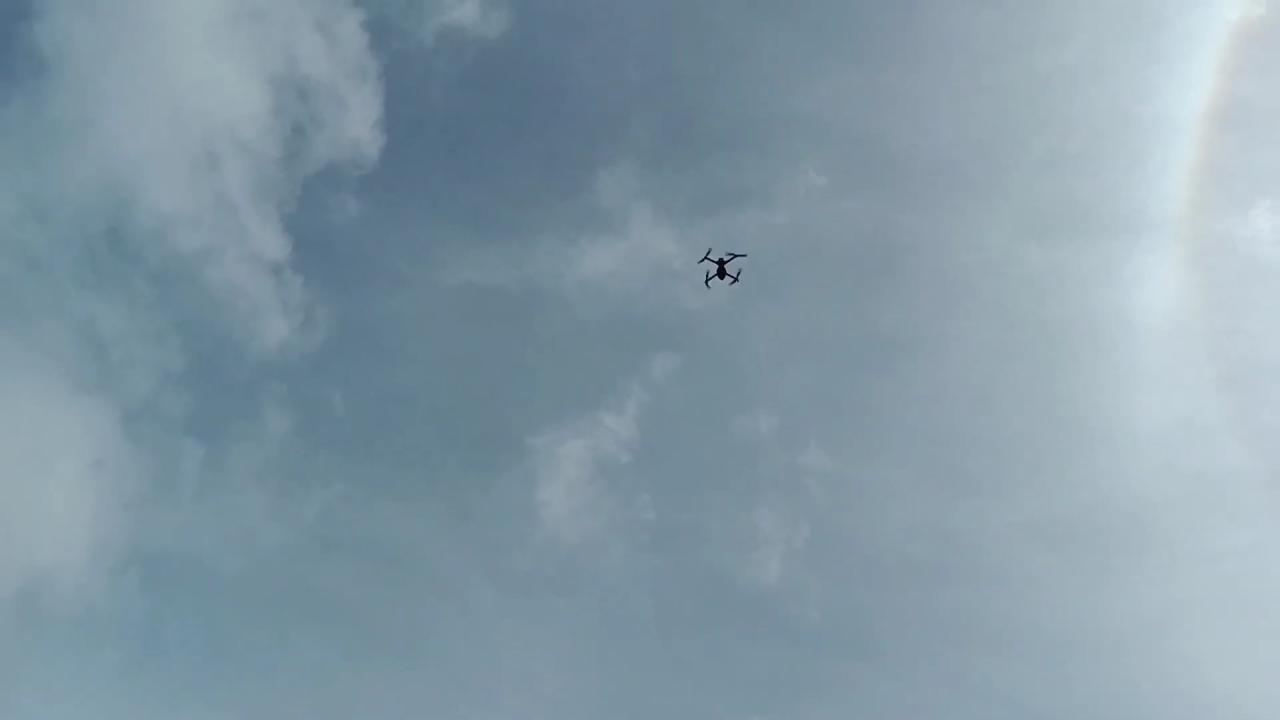Drone: (690, 238, 756, 296)
